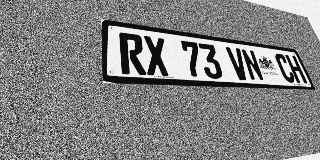3: (198, 43, 224, 79)
7: (179, 40, 206, 78)
C: (273, 53, 297, 83)
H: (285, 55, 308, 83)
N: (240, 49, 265, 81)
R: (119, 32, 147, 75)
V: (225, 47, 250, 81)
X: (143, 35, 170, 76)
